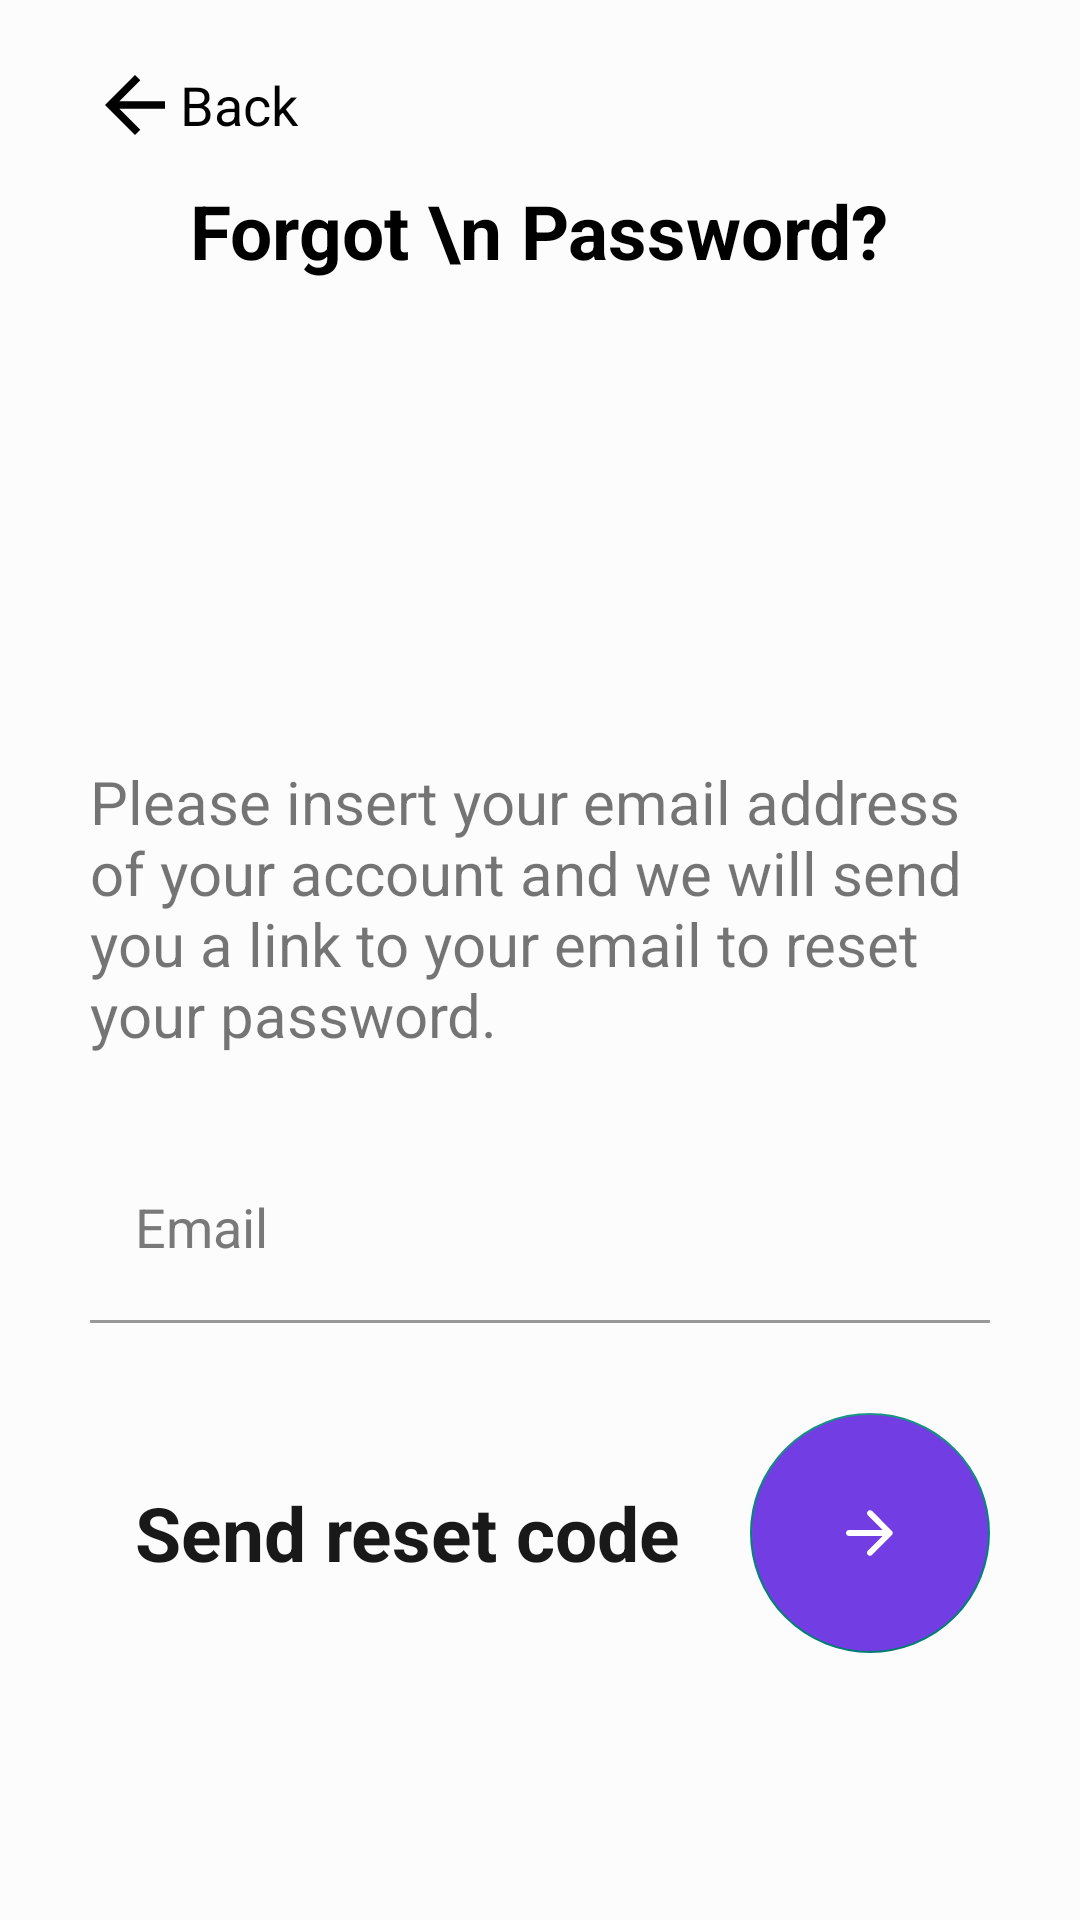

Screen size 1080 × 1920. Icon name, then its box in pixels as BBox(x1, y1, x2, y2):
arrow forward: BBox(750, 1413, 990, 1653)
